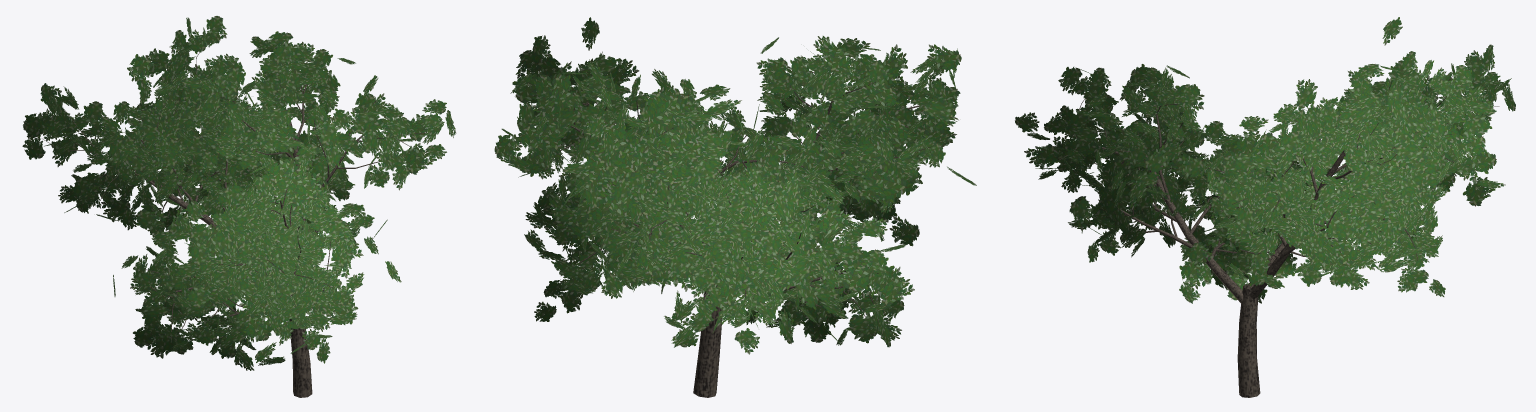
File: HO2_HolmOak_Medium_6m.glb
The picture shows the model from 3 angles, left to right: view 1: azimuth 30°, elevation 25°; view 2: azimuth 150°, elevation 25°; view 3: azimuth 270°, elevation 25°; orthographic projection. The views are drawn at different scales.
Visible parts, largest first — view 1: HO2_leaves, HO2_wood; view 2: HO2_leaves, HO2_wood; view 3: HO2_leaves, HO2_wood.
Part boxes in pixels (x1=…): HO2_leaves: x1=22, y1=16, x2=456, y2=370; HO2_wood: x1=42, y1=52, x2=426, y2=397; HO2_leaves: x1=494, y1=17, x2=976, y2=354; HO2_wood: x1=539, y1=71, x2=937, y2=397; HO2_leaves: x1=1015, y1=17, x2=1515, y2=303; HO2_wood: x1=1059, y1=76, x2=1499, y2=397.
Size of the model in its own units: 6.82 by 6.02 by 8.35.
Materials: 2 (2 with a texture image).
